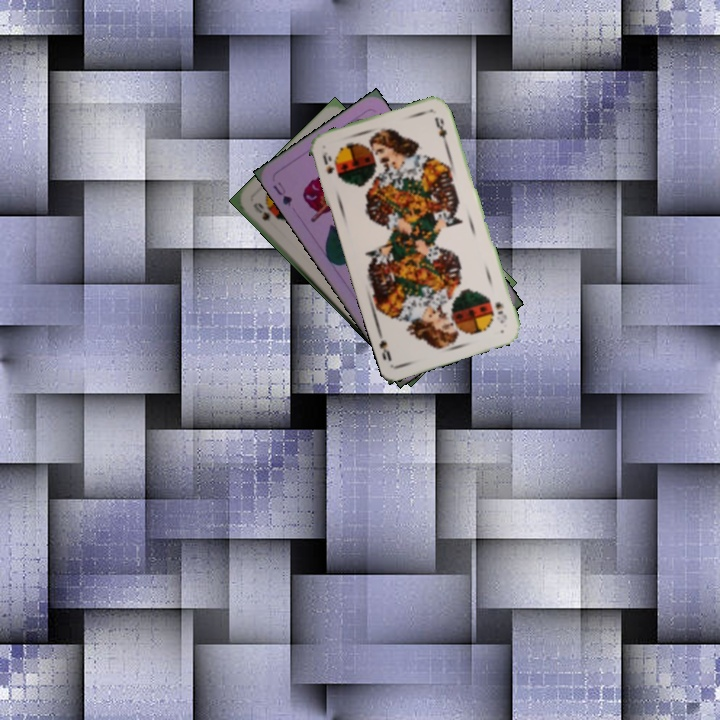GU: (269, 178, 295, 209)
SO: (319, 150, 341, 181), (249, 198, 273, 224), (491, 298, 510, 326)
